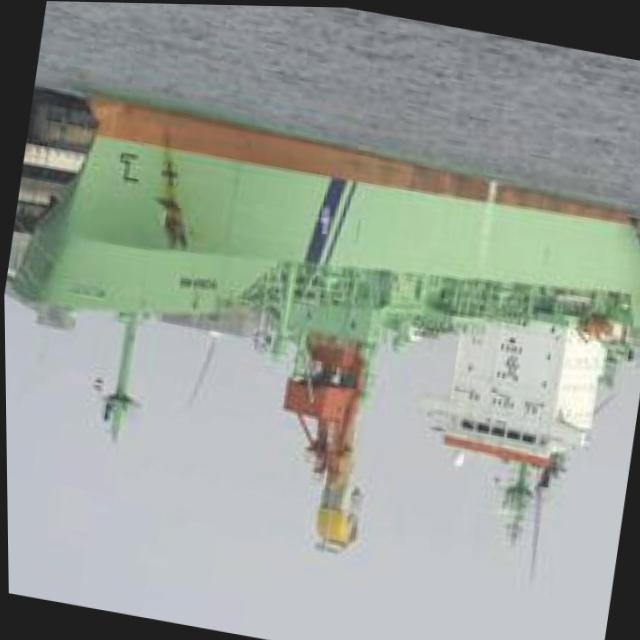ship2: (8, 96, 640, 580)
